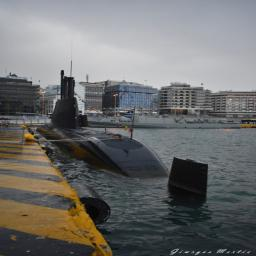submarine: (36, 98, 210, 201)
